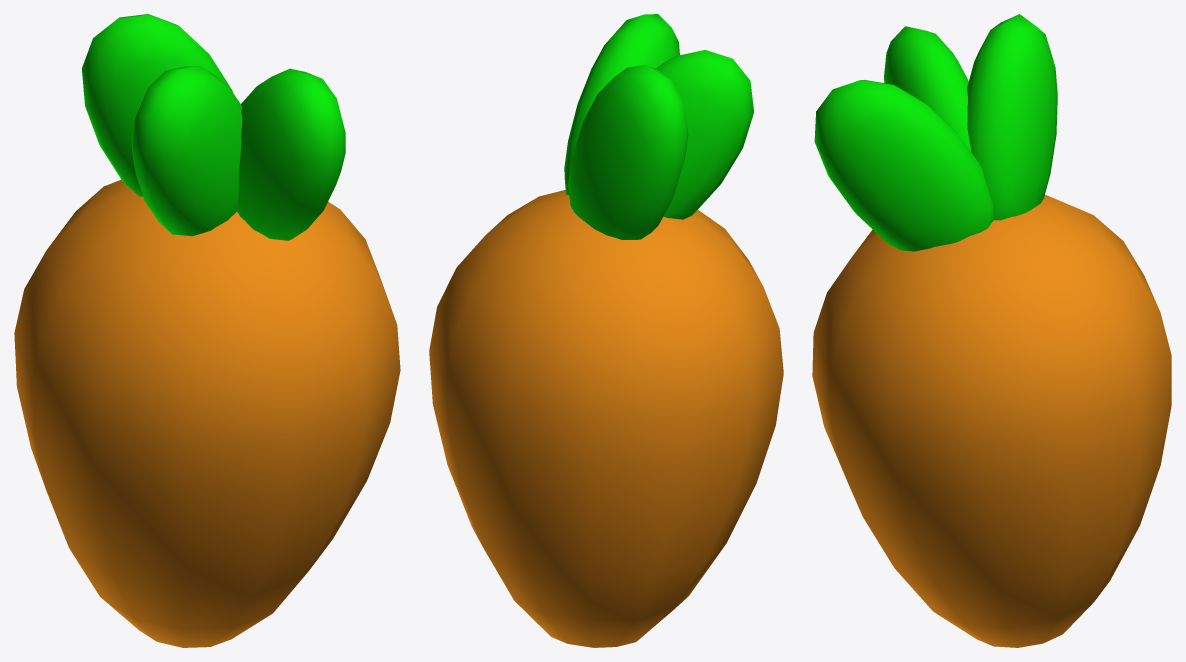
File: Carrot.fbx
3 renders of one model, left to right at view 1: azimuth 30°, elevation 25°; view 2: azimuth 150°, elevation 25°; view 3: azimuth 270°, elevation 25°, orthographic. The views are drawn at different scales.
Visible parts, largest first — view 1: Carrot; view 2: Carrot; view 3: Carrot.
Part boxes in pixels (x1=…): Carrot: x1=14, y1=14, x2=400, y2=647; Carrot: x1=429, y1=14, x2=783, y2=647; Carrot: x1=812, y1=14, x2=1171, y2=647.
Size of the model in its own units: 24.89 by 45.5 by 24.77.
